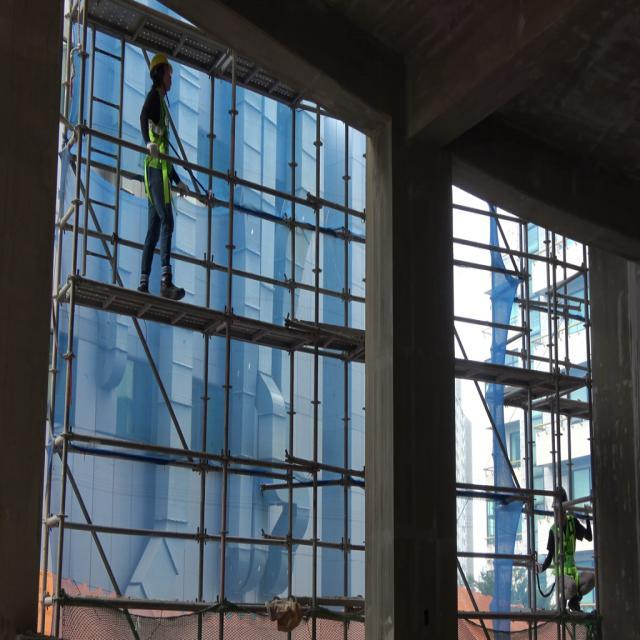belt: (145, 90, 178, 218), (554, 514, 578, 588)
